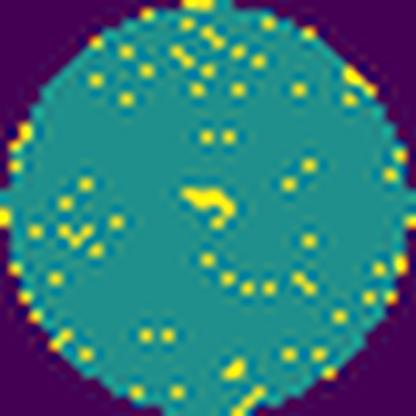Center: (172, 185, 244, 235)
